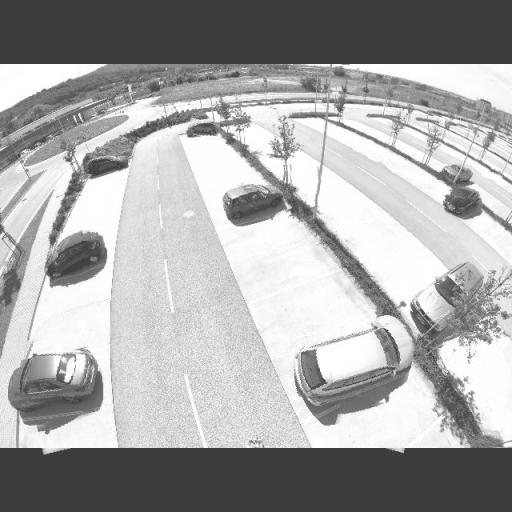busy: (291, 311, 415, 414), (16, 344, 102, 410), (411, 264, 490, 328), (52, 230, 104, 279), (220, 181, 286, 219), (440, 185, 483, 215), (84, 154, 130, 174), (440, 165, 472, 185), (188, 120, 220, 140)
free: (335, 397, 412, 449), (440, 328, 496, 378), (38, 414, 106, 452), (52, 314, 102, 352), (285, 294, 342, 325), (53, 274, 104, 300), (388, 252, 432, 278), (263, 257, 308, 281), (241, 224, 285, 246), (356, 224, 396, 246), (333, 200, 368, 222), (305, 184, 341, 203), (289, 168, 322, 187), (378, 156, 406, 174), (276, 157, 306, 171), (472, 214, 496, 231), (83, 226, 112, 240), (217, 174, 244, 188), (82, 210, 113, 222), (428, 183, 450, 198), (256, 148, 278, 162), (368, 148, 390, 162), (483, 170, 503, 185), (97, 166, 116, 181), (407, 172, 430, 184), (86, 194, 109, 206), (208, 160, 232, 171), (353, 140, 375, 152), (249, 144, 268, 156), (195, 146, 219, 155), (468, 162, 486, 174), (200, 153, 224, 161), (249, 136, 266, 146), (337, 134, 357, 142), (92, 184, 111, 192)
